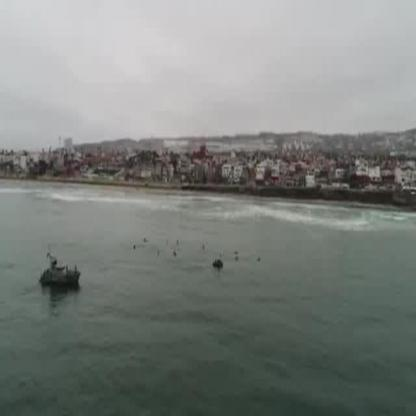Boat: (41, 250, 88, 297)
